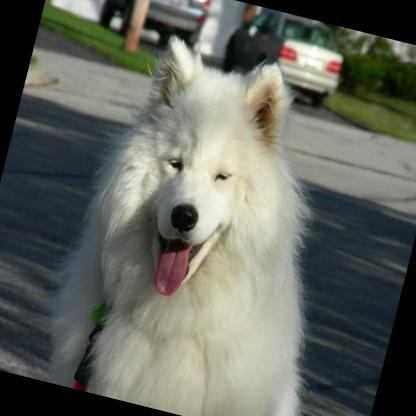Samoyed: (33, 18, 389, 416)
